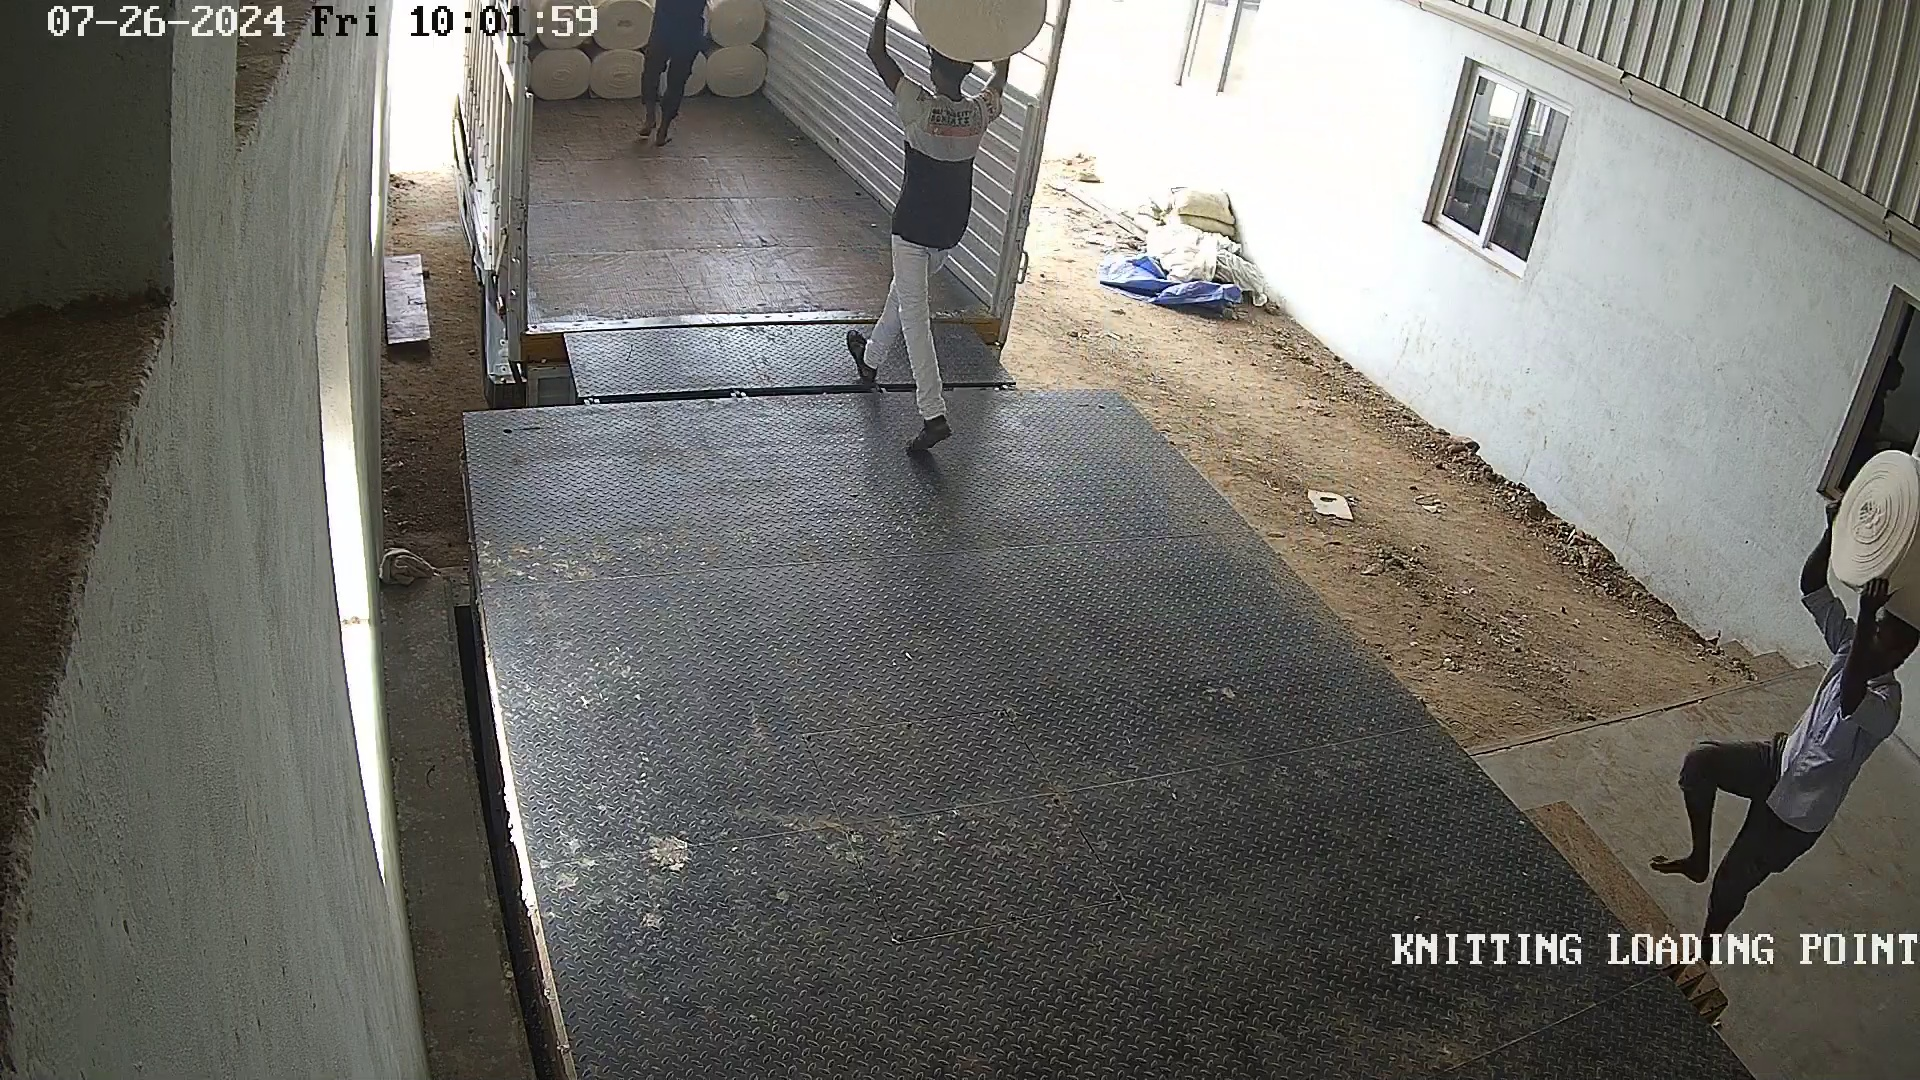bag: (865, 4, 1091, 66)
